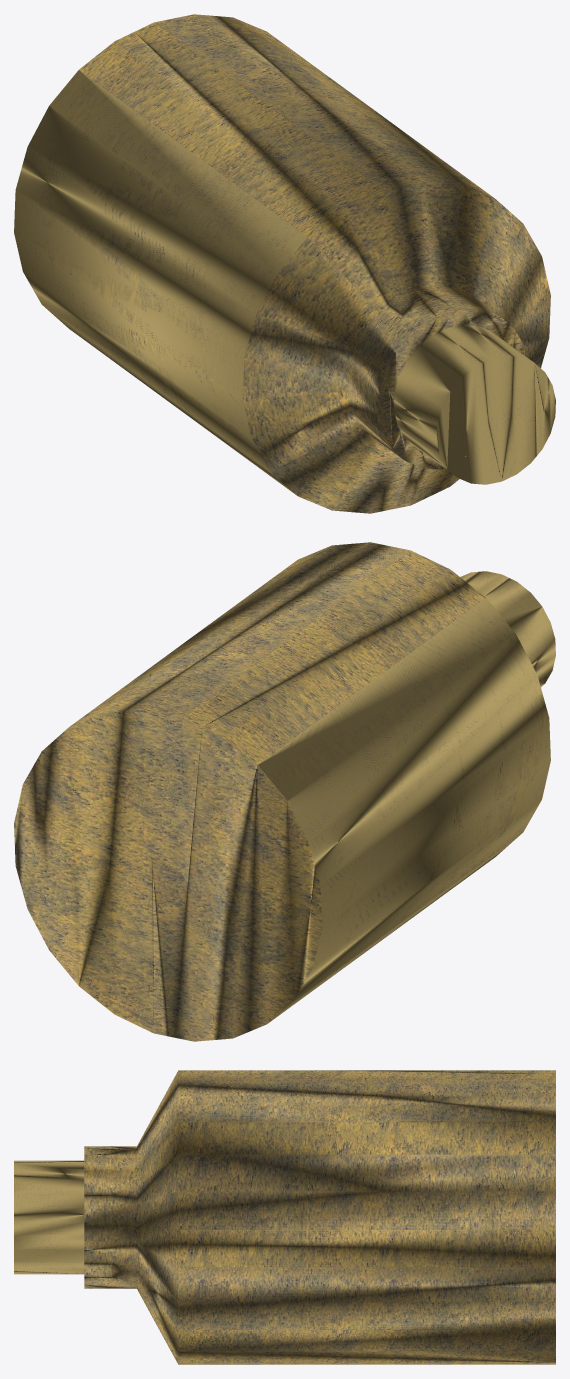
File: model_align.obj
The picture shows the model from 3 angles, top to bottom: view 1: azimuth 30°, elevation 25°; view 2: azimuth 150°, elevation 25°; view 3: azimuth 270°, elevation 25°; orthographic projection. The views are drawn at different scales.
Bounding box in the file's own units: 0.1134 × 0.1134 × 0.2091.
